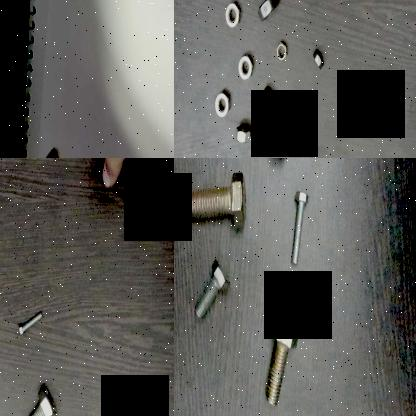Bolts: (184, 169, 251, 233), (261, 308, 301, 410), (188, 256, 234, 326), (286, 180, 312, 268), (22, 381, 58, 416), (17, 309, 43, 339)
NUTS: (213, 87, 232, 121), (257, 0, 279, 25), (234, 120, 252, 148), (237, 53, 253, 83), (224, 1, 240, 31), (274, 36, 290, 64), (312, 46, 326, 74), (262, 80, 275, 108), (282, 104, 294, 130)
